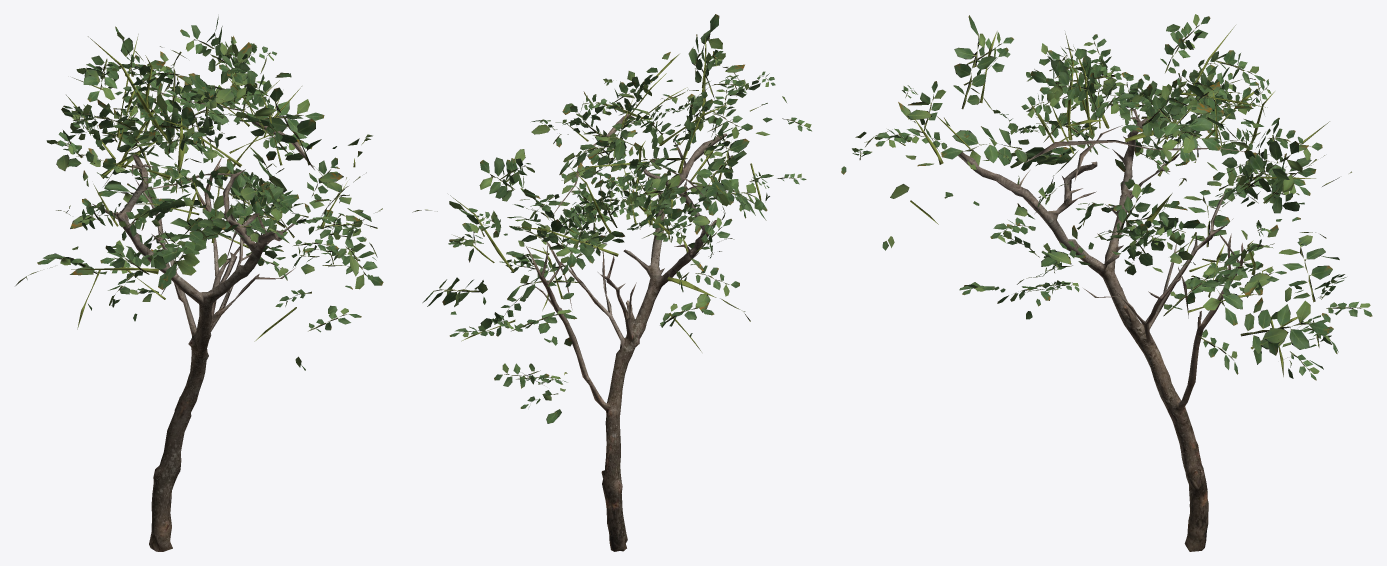
Rendered from tree_small_02_lod1.glb.
3 renders of one model, left to right at view 1: azimuth 30°, elevation 25°; view 2: azimuth 150°, elevation 25°; view 3: azimuth 270°, elevation 25°, orthographic. The views are drawn at different scales.
Parts seen in each view (by area): view 1: tree_small_02_LOD0.002, tree_small_02_LOD0, tree_small_02_LOD0.001; view 2: tree_small_02_LOD0.002, tree_small_02_LOD0; view 3: tree_small_02_LOD0.002, tree_small_02_LOD0, tree_small_02_LOD0.001.
Boxes of the visible parts, x1,y1,x2,y2 form: tree_small_02_LOD0.002: (15,16,383,370); tree_small_02_LOD0: (92,154,303,551); tree_small_02_LOD0.001: (128,90,314,294); tree_small_02_LOD0.002: (412,14,811,423); tree_small_02_LOD0: (526,133,727,551); tree_small_02_LOD0.002: (841,14,1372,380); tree_small_02_LOD0: (958,109,1243,551); tree_small_02_LOD0.001: (1025,125,1287,357).
Size of the model in its own units: 3.01 by 4.74 by 4.29.
3 materials, 3 textured.
